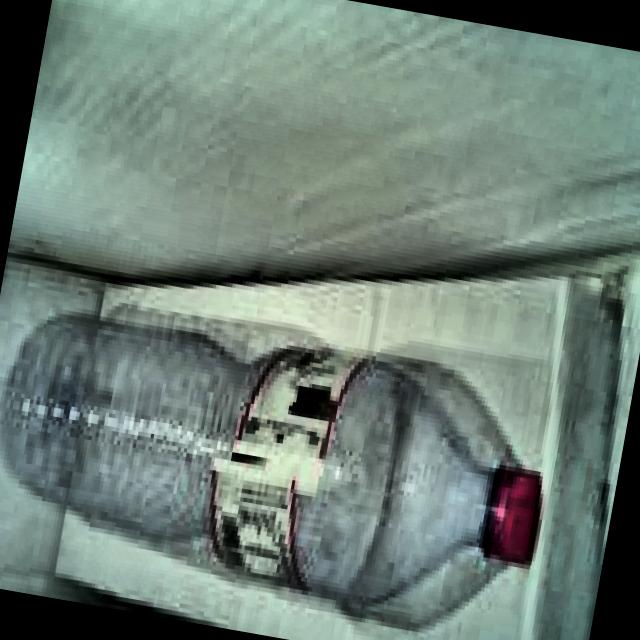plastic bottle: (1, 316, 542, 617)
